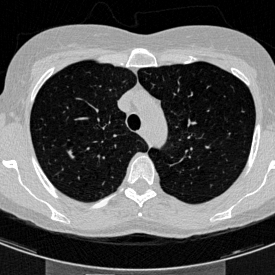nodule: (66, 150, 74, 158)
